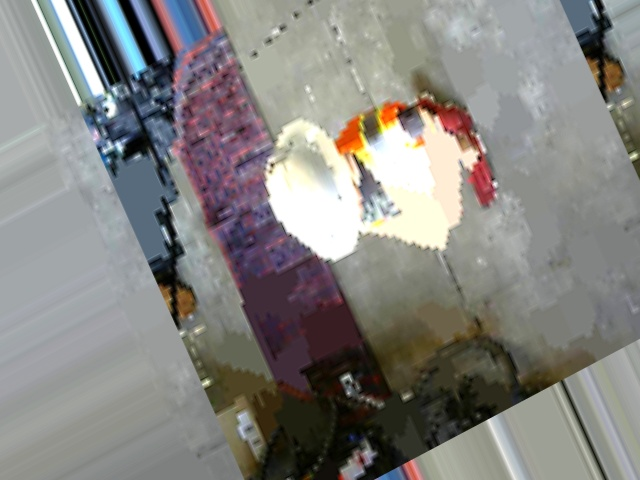eight: (257, 139, 297, 176)
